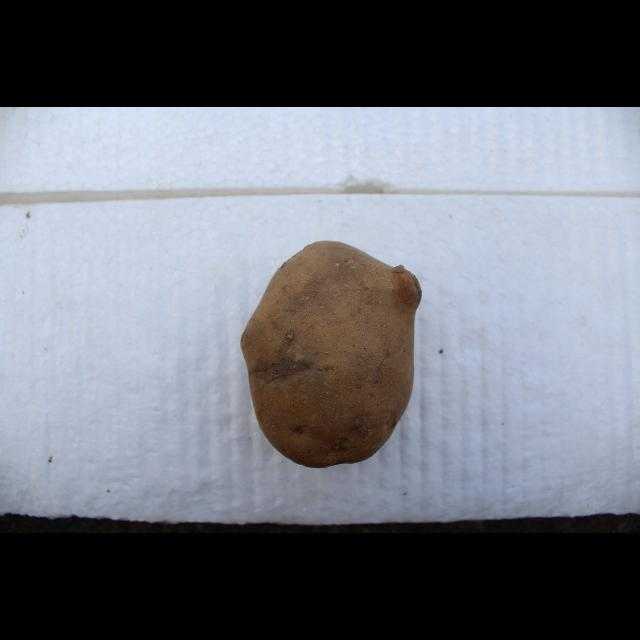Diseased-fungal potato: (241, 242, 425, 468)
